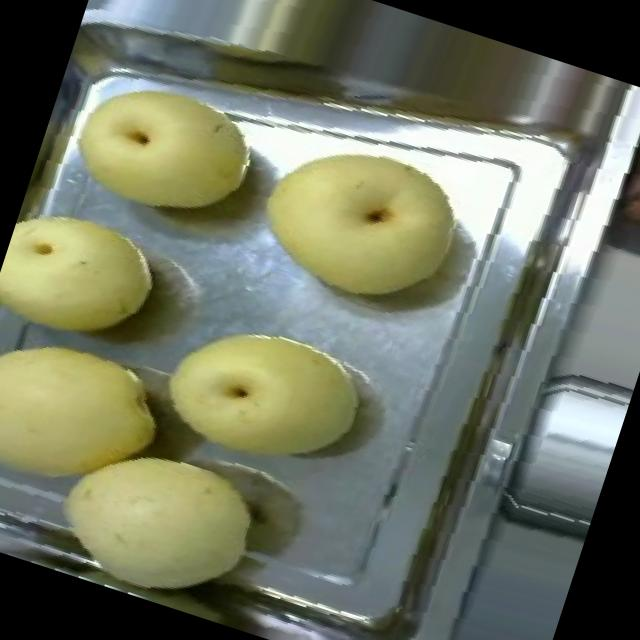Fruit: (21, 405, 286, 629), (230, 106, 483, 333), (131, 291, 386, 505), (41, 39, 284, 254), (0, 299, 195, 537), (0, 183, 184, 373)
